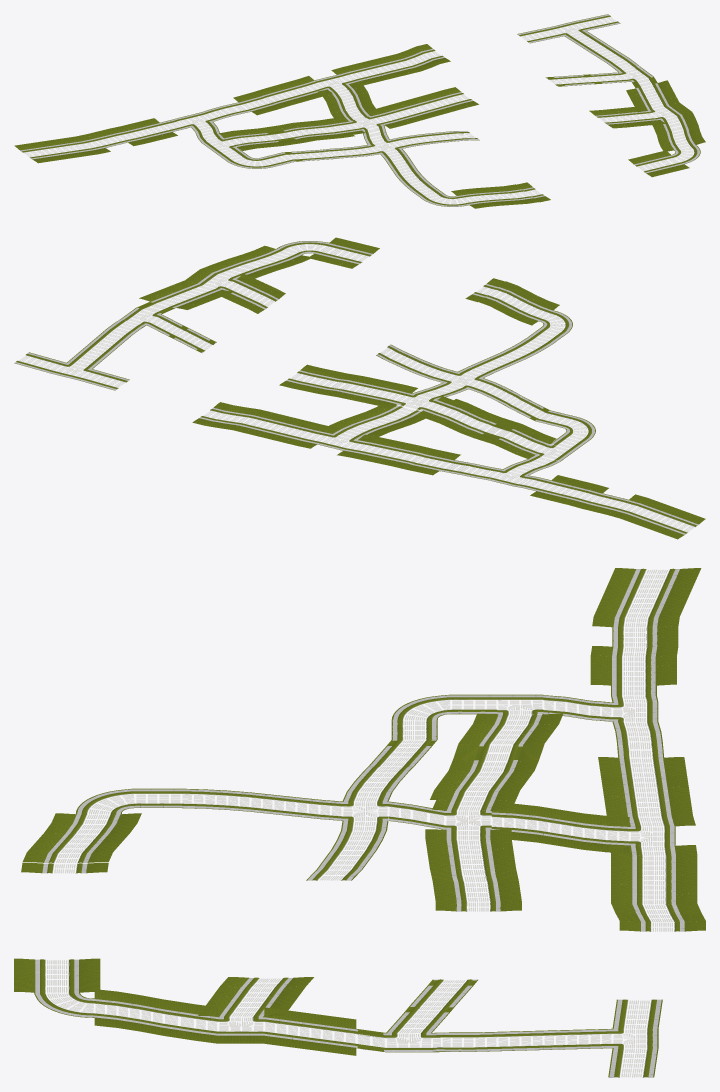
File: Road.fbx
The picture shows the model from 3 angles, top to bottom: view 1: azimuth 30°, elevation 25°; view 2: azimuth 150°, elevation 25°; view 3: azimuth 270°, elevation 25°; orthographic projection. The views are drawn at different scales.
Parts seen in each view (by area): view 1: Road_8x_30.009, Road_8x.085, Road_8x_20.005, Road_8x_5.003, Road_8x_5.052, Road_8x_30.005, Road_circle.002, Road_8x_30.010, Road_circle.008; view 2: Road_8x_30.009, Road_8x.085, Road_8x_20.005, Road_8x_5.003, Road_8x_5.052, Road_8x_30.005, Road_circle.002; view 3: Road_8x_30.009, Road_8x.085, Road_8x_20.005, Road_8x_5.052, Road_8x_5.003, Road_8x_30.005, Road_circle.008, Road_circle.002, Road_8x_30.010, Road_8x_30.008, Road_8x.012, Road_8x_5.033 (+4 smaller).
Part boxes in pixels (bbox=[...]): Road_8x_30.009: bbox=[545, 72, 630, 86]; Road_8x.085: bbox=[221, 152, 284, 168]; Road_8x_20.005: bbox=[385, 154, 417, 175]; Road_8x_5.003: bbox=[574, 14, 620, 30]; Road_8x_5.052: bbox=[517, 27, 563, 43]; Road_8x_30.005: bbox=[283, 150, 331, 161]; Road_circle.002: bbox=[672, 145, 700, 164]; Road_8x_30.010: bbox=[362, 125, 389, 144]; Road_circle.008: bbox=[424, 194, 468, 206]; Road_8x_30.009: bbox=[147, 314, 216, 352]; Road_8x.085: bbox=[549, 413, 595, 444]; Road_8x_20.005: bbox=[468, 353, 525, 373]; Road_8x_5.003: bbox=[14, 352, 66, 373]; Road_8x_5.052: bbox=[78, 369, 129, 390]; Road_8x_30.005: bbox=[508, 396, 549, 421]; Road_circle.002: bbox=[276, 241, 328, 255]; Road_8x_30.009: bbox=[386, 979, 477, 1032]; Road_8x.085: bbox=[391, 694, 474, 730]; Road_8x_20.005: bbox=[250, 792, 319, 818]; Road_8x_5.052: bbox=[612, 999, 662, 1028]; Road_8x_5.003: bbox=[608, 1048, 658, 1077]; Road_8x_30.005: bbox=[369, 739, 437, 766]; Road_circle.008: bbox=[76, 788, 135, 814]; Road_circle.002: bbox=[34, 992, 94, 1017]; Road_8x_30.010: bbox=[388, 801, 445, 829]; Road_8x_30.008: bbox=[306, 859, 369, 880]; Road_8x.012: bbox=[497, 694, 543, 714]; Road_8x_5.033: bbox=[566, 1028, 612, 1049].
Size of the model in its own units: 41807 by 124 by 24057.
